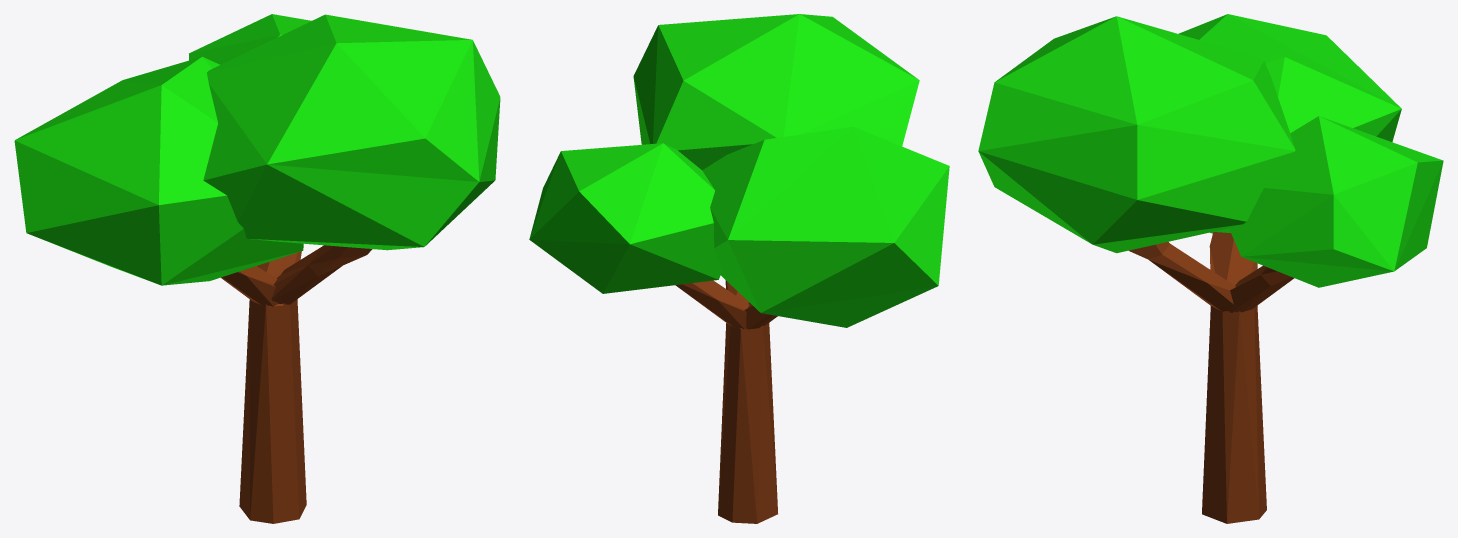
The model's file is tree2.glb.
3 views of the same model, side by side, from view 1: azimuth 30°, elevation 25°; view 2: azimuth 150°, elevation 25°; view 3: azimuth 270°, elevation 25° (orthographic). The views are drawn at different scales.
Parts seen in each view (by area): view 1: Tree; view 2: Tree; view 3: Tree.
Boxes of the visible parts, x1,y1,x2,y2 form: Tree: (14,14,500,523); Tree: (529,14,949,523); Tree: (978,14,1443,523).
Size of the model in its own units: 3.94 by 4.72 by 4.02.
